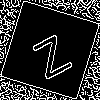Z: (25, 25, 74, 80)
